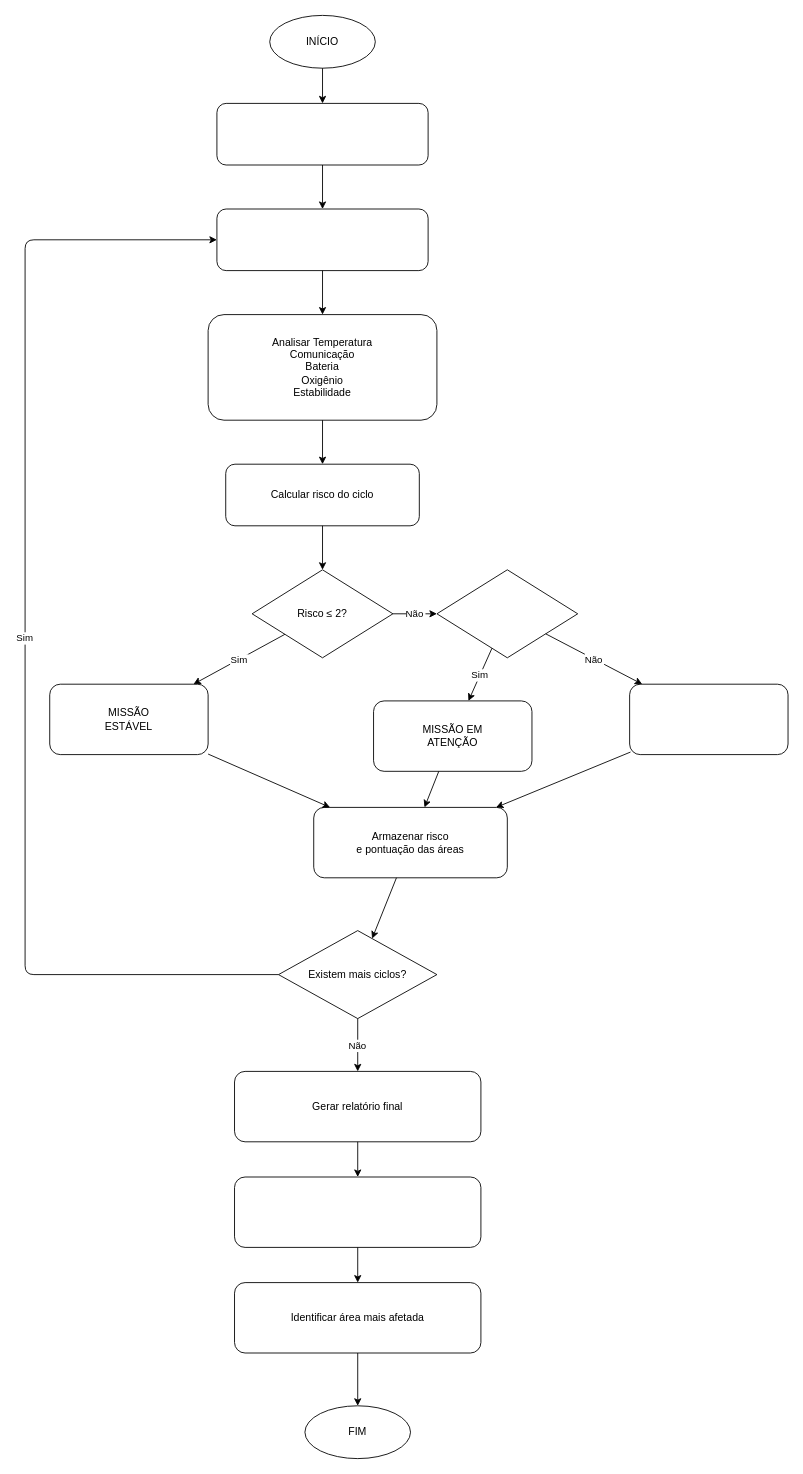
Image size: 803x1474. Some labels were removed from this diagram. Each missing label, with the centre of its shape:
Analisar tendência da missão: pixel 357 1211
Carregar dados da missão e áreas monitoradas: pixel 322 134
MISSÃO CRÍTICA: pixel 708 719
Percorrer ciclos da missão: pixel 322 239
Risco ≤ 5?: pixel 507 613
